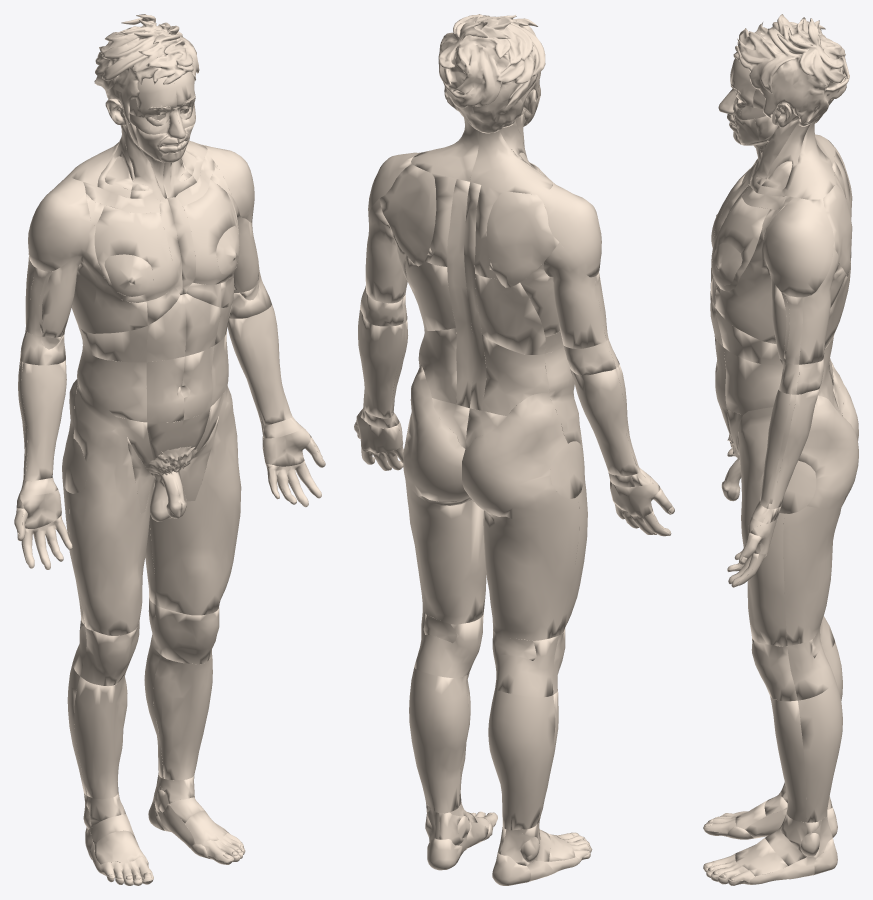
The model's file is skin.glb.
The picture shows the model from 3 angles, left to right: view 1: azimuth 30°, elevation 25°; view 2: azimuth 150°, elevation 25°; view 3: azimuth 270°, elevation 25°; orthographic projection. The views are drawn at different scales.
Visible parts, largest first — view 1: skin; view 2: skin; view 3: skin.
Boxes of the visible parts, bbox=[...] form: skin: bbox=[14, 14, 325, 885]; skin: bbox=[354, 14, 674, 885]; skin: bbox=[703, 14, 858, 885].
Bounding box in the file's own units: 0.6802 × 1.74 × 0.2942.
